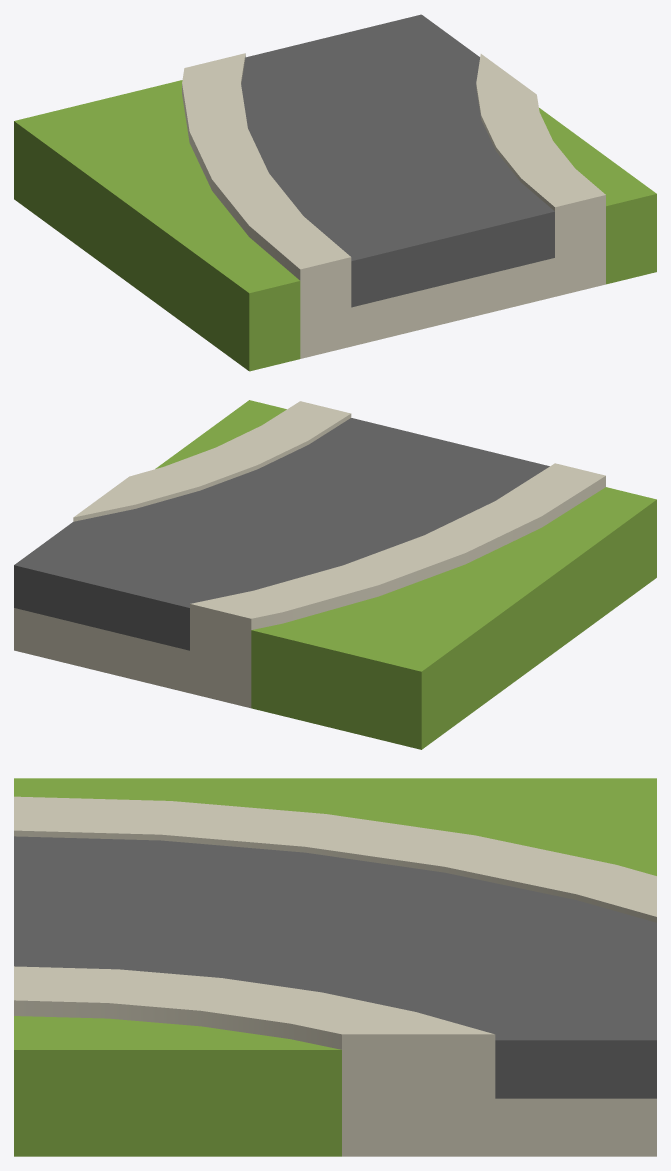
Rendered from tile162.dae.
The picture shows the model from 3 angles, top to bottom: view 1: azimuth 30°, elevation 25°; view 2: azimuth 150°, elevation 25°; view 3: azimuth 270°, elevation 25°; orthographic projection. The views are drawn at different scales.
Parts seen in each view (by area): view 1: tile162; view 2: tile162; view 3: tile162.
Part boxes in pixels (bbox=[...]): tile162: bbox=[14, 14, 656, 371]; tile162: bbox=[14, 400, 656, 749]; tile162: bbox=[14, 778, 656, 1156].
Bounding box in the file's own units: 1 × 0.21 × 1.
